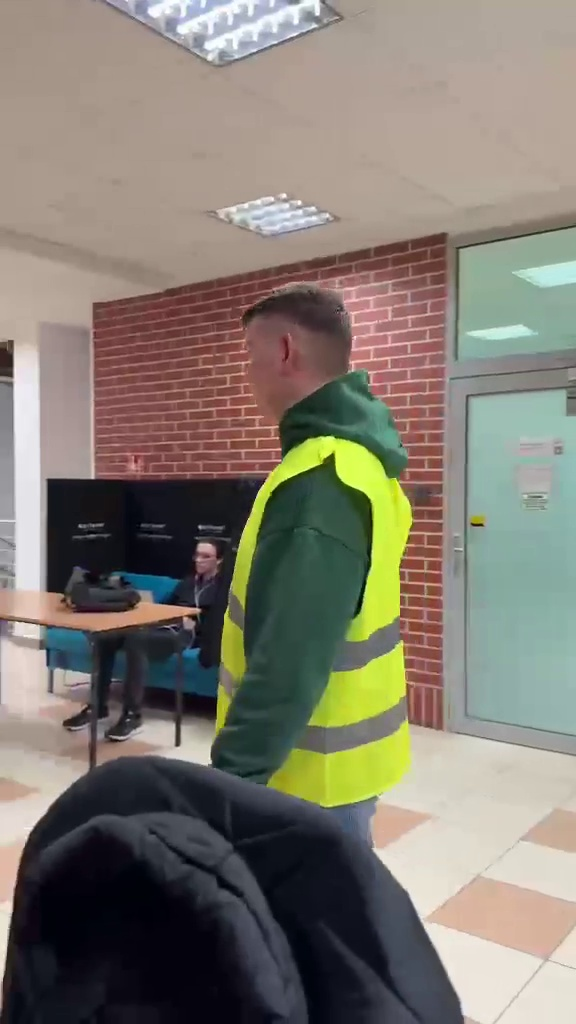no vest: (63, 518, 225, 743)
vest: (216, 274, 419, 813)
